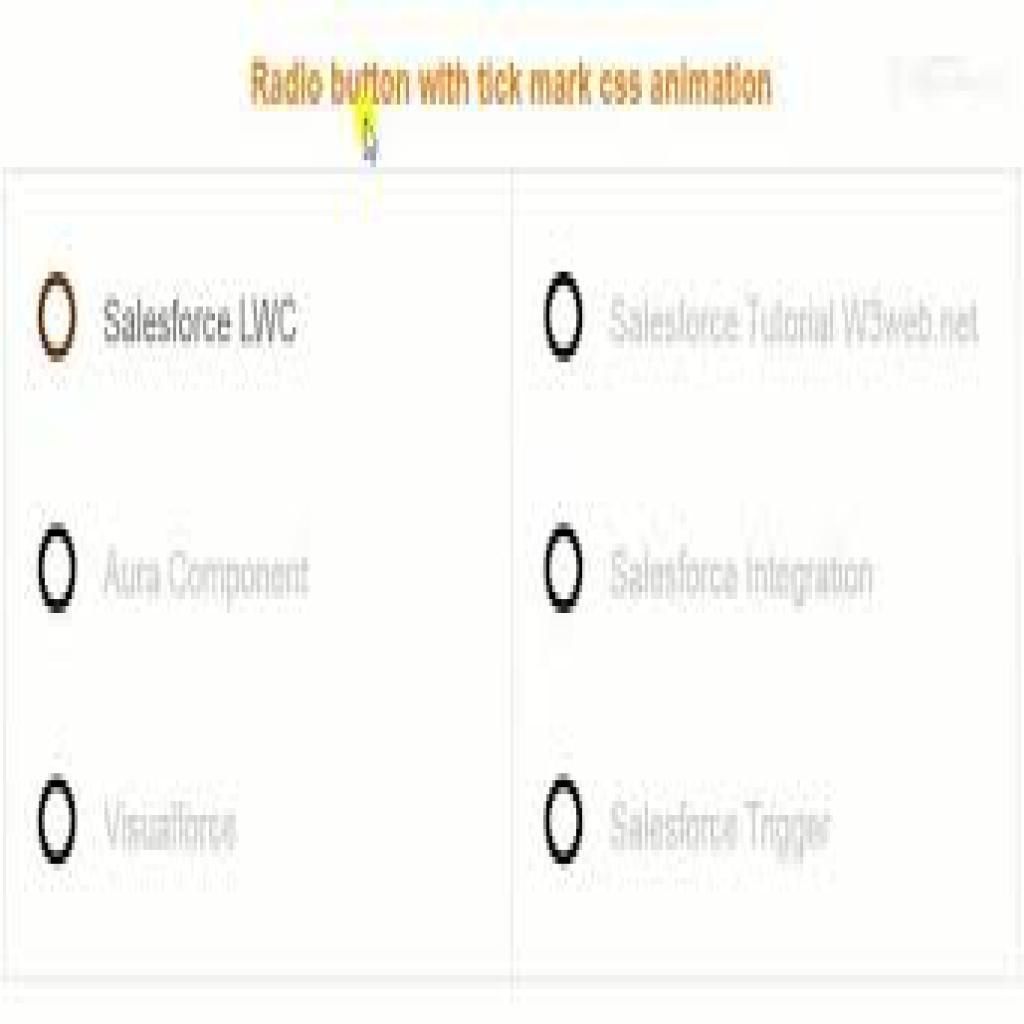label: (251, 54, 777, 112), (606, 282, 984, 349), (606, 540, 885, 609), (606, 793, 835, 861), (102, 537, 314, 608), (100, 290, 303, 345), (100, 790, 244, 856)
radio: (540, 771, 587, 872), (35, 518, 80, 620), (541, 266, 586, 366), (35, 267, 81, 364), (34, 772, 79, 871), (540, 521, 585, 617)
